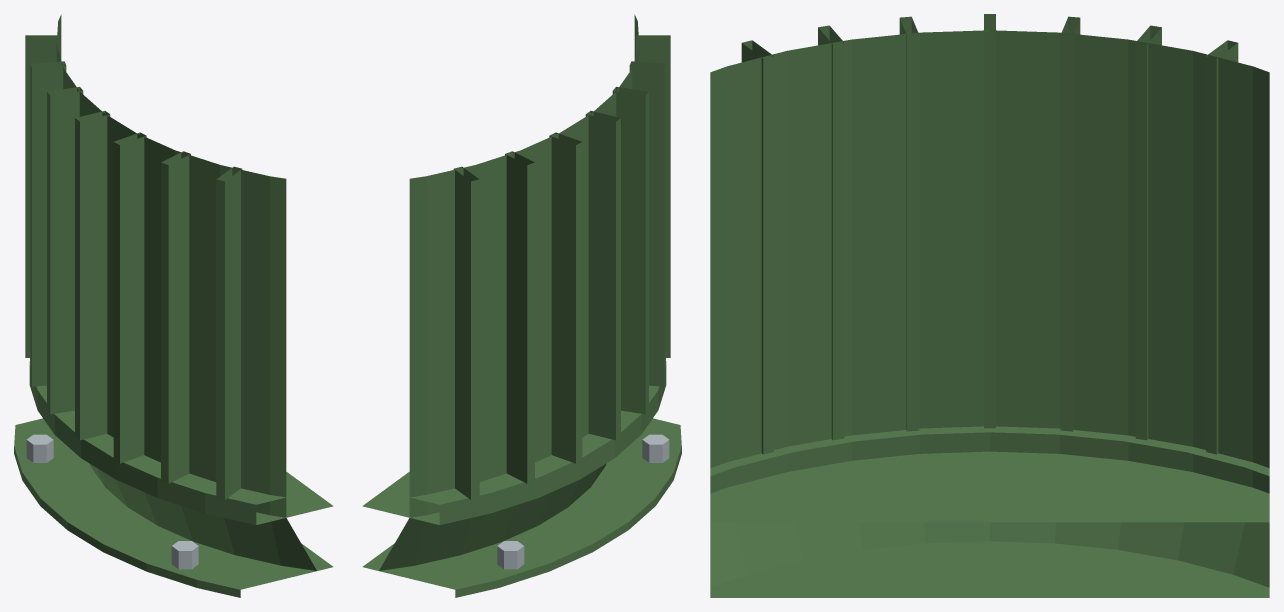
File: cell_36.obj
3 views of the same model, side by side, from view 1: azimuth 30°, elevation 25°; view 2: azimuth 150°, elevation 25°; view 3: azimuth 270°, elevation 25° (orthographic). The views are drawn at different scales.
Size of the model in its own units: 0.3944 by 1 by 1.
